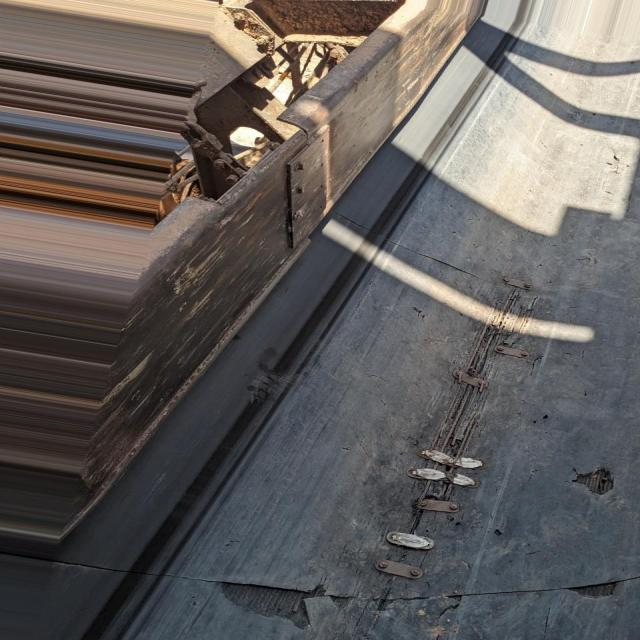Tear: (179, 573, 640, 640), (390, 243, 486, 286), (570, 464, 621, 493)
patch work: (362, 283, 535, 587)
